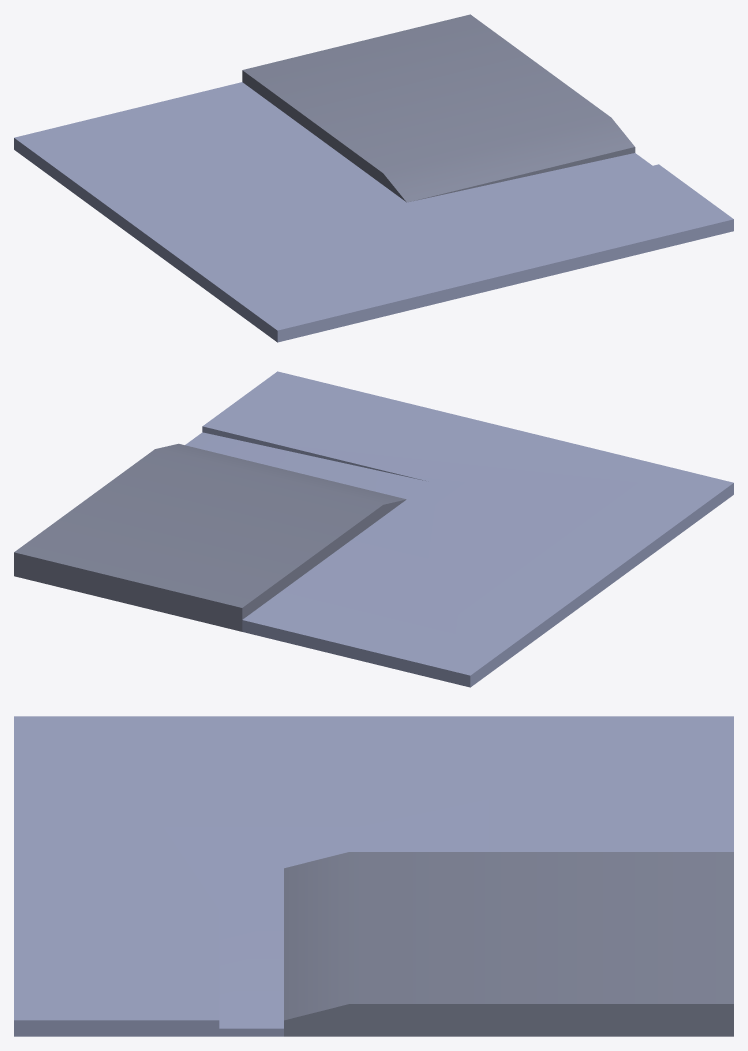
The model's file is road-curb-end.glb.
3 views of the same model, one above another, from view 1: azimuth 30°, elevation 25°; view 2: azimuth 150°, elevation 25°; view 3: azimuth 270°, elevation 25° (orthographic). The views are drawn at different scales.
Visible parts, largest first — view 1: road-curb-end; view 2: road-curb-end; view 3: road-curb-end.
Boxes of the visible parts, x1,y1,x2,y2 form: road-curb-end: (14,14,733,342); road-curb-end: (14,371,733,687); road-curb-end: (14,716,733,1036).
Bounding box in the file's own units: 1 × 0.0501 × 1.
1 material, 1 textured.
